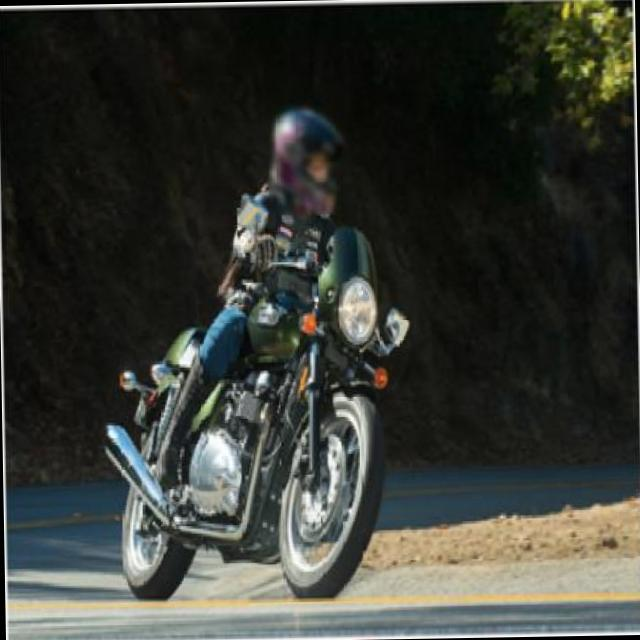With Helmet: (266, 104, 352, 216)
